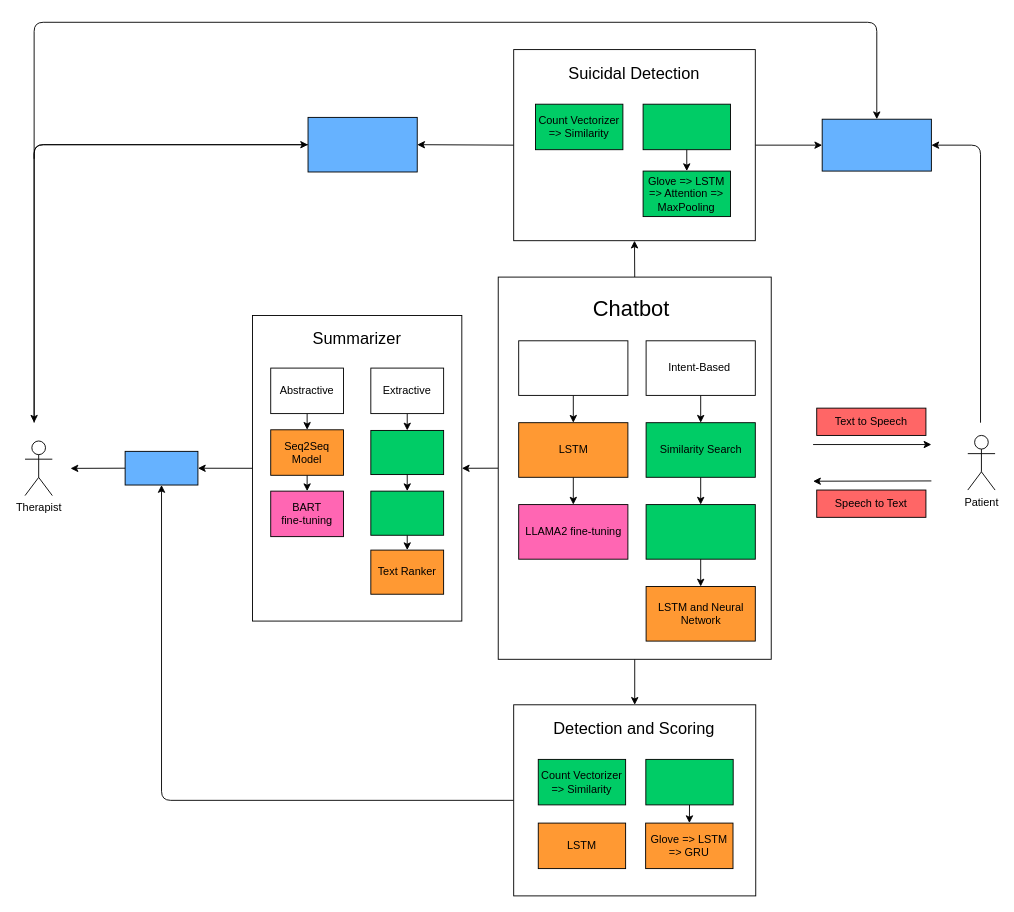
Some shapes in this 1014 by 912 pixel diagram are drawn without their labels. The centre of each missing label's shape, as x and y in pixels:
Clustering: the point at 407,512
Count Vectorizer => Logistic Regression: the point at 686,126
Generative: the point at 573,367
Logistic Regression: the point at 689,781
Report: the point at 161,467
Scheduler: the point at 362,144
SOS: the point at 876,144
SVM / Logistic Regression: the point at 700,531
TF-IDF: the point at 407,452
